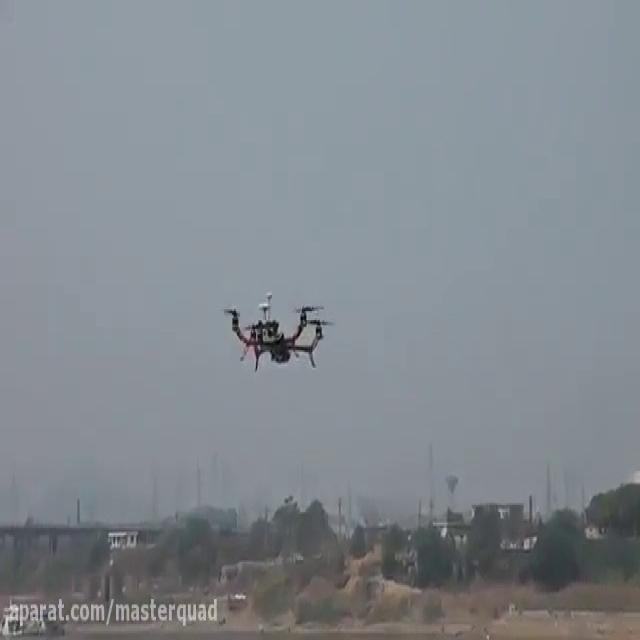drone: (219, 288, 338, 372)
